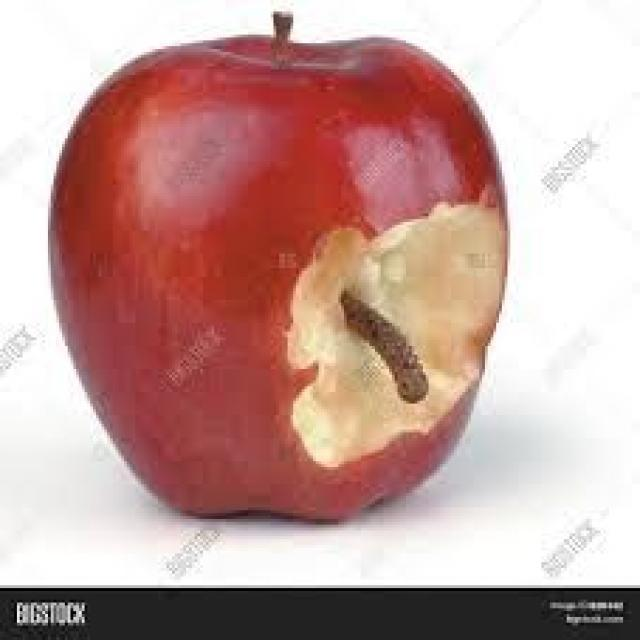Apple: (70, 28, 512, 522)
